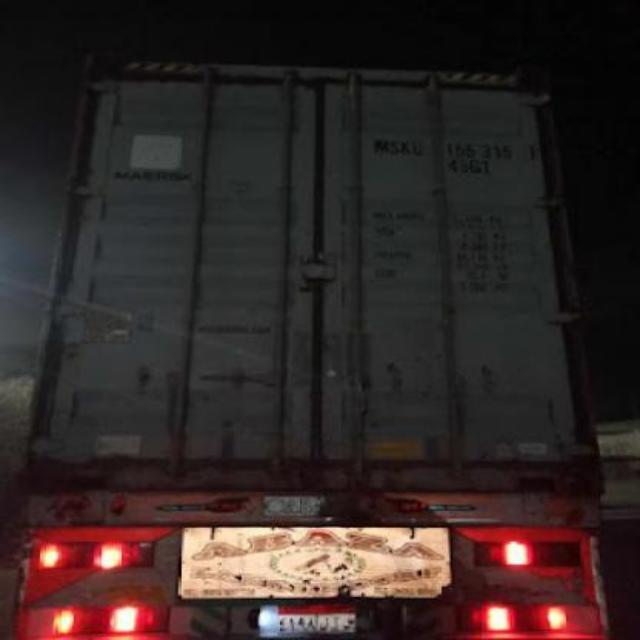1: (524, 142, 538, 160), (444, 138, 454, 158), (492, 138, 500, 162)
3: (478, 138, 490, 160)
5: (452, 139, 466, 159), (464, 138, 476, 158)
6: (502, 140, 512, 160)
K: (396, 136, 409, 158)
M: (372, 132, 388, 156)
S: (386, 136, 398, 158)
U: (408, 133, 424, 157)
